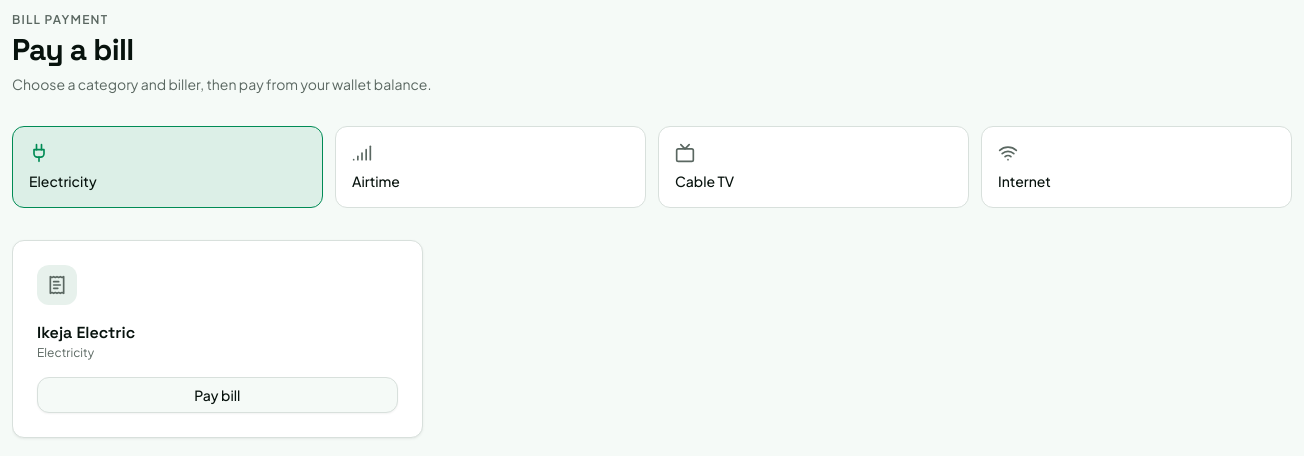
Test: BillsPage › lists billers for the selected category only
Check: the heading "Ikeja Electric" is shown, box [37,322,135,343]
Check: the text "DSTV" is not shown
Click the tab "Cable TV" at (705, 181), box [658,126,969,208]
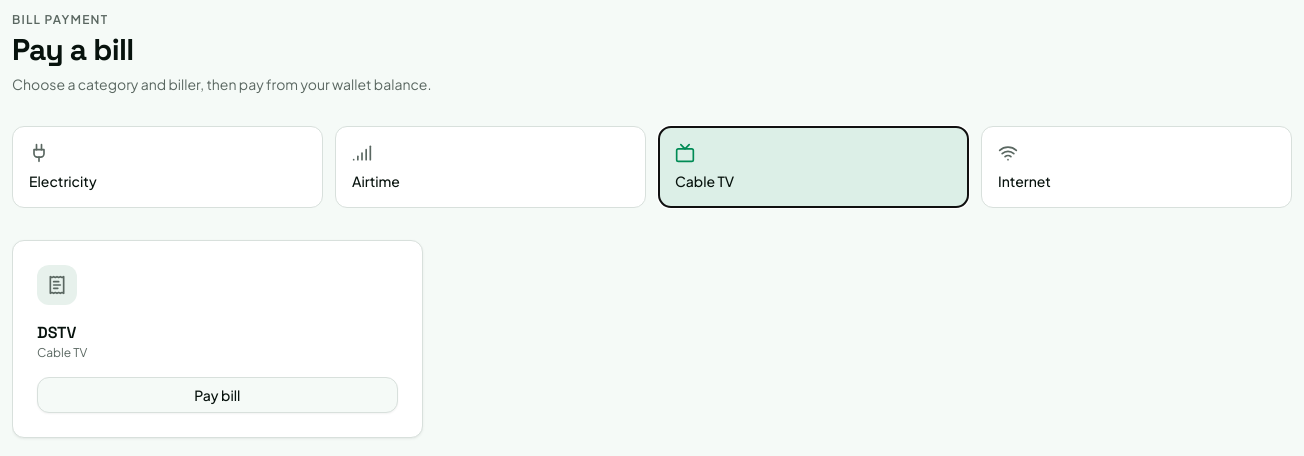
Check: the heading "DSTV" is shown, box [37,322,76,343]
Check: the heading "Ikeja Electric" is gone
